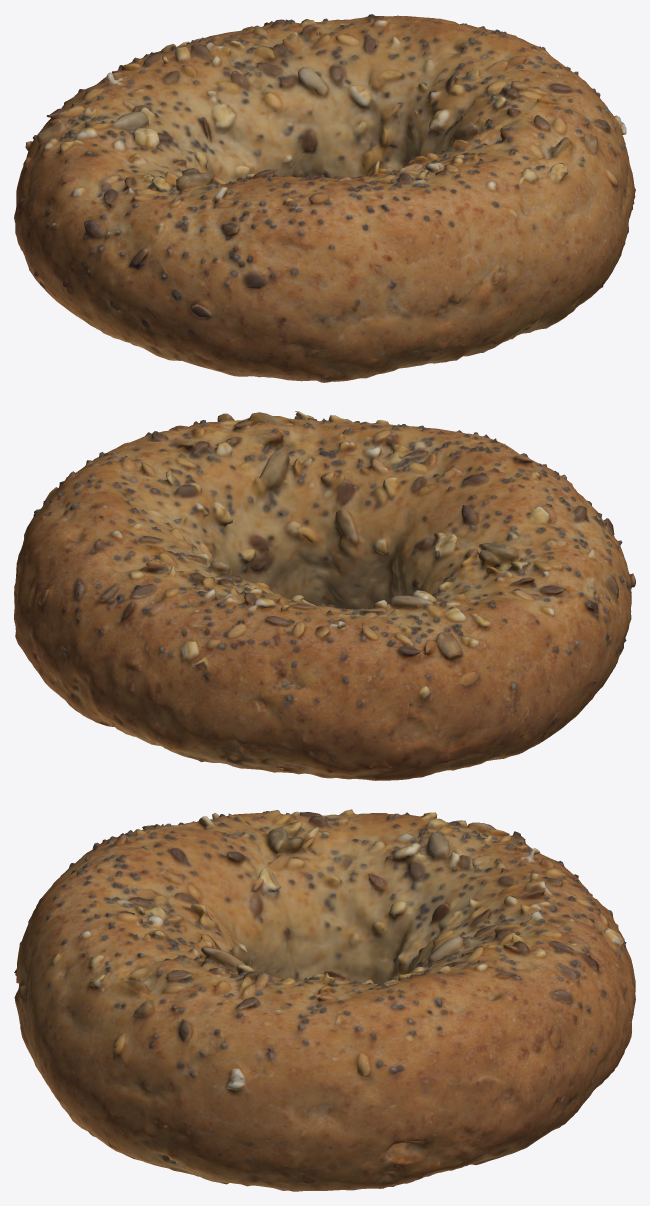
File: 3DBread005_HQ-4K-PNG.obj
3 renders of one model, top to bottom at view 1: azimuth 30°, elevation 25°; view 2: azimuth 150°, elevation 25°; view 3: azimuth 270°, elevation 25°, orthographic. The views are drawn at different scales.
Parts seen in each view (by area): view 1: 3DBread005_HQ-4K-PNG; view 2: 3DBread005_HQ-4K-PNG; view 3: 3DBread005_HQ-4K-PNG.
Boxes of the visible parts, x1,y1,x2,y2 form: 3DBread005_HQ-4K-PNG: [14, 14, 635, 382]; 3DBread005_HQ-4K-PNG: [14, 411, 635, 780]; 3DBread005_HQ-4K-PNG: [14, 809, 635, 1191].
Size of the model in its own units: 0.1305 by 0.0406 by 0.1236.
Materials: 1 (1 with a texture image).
